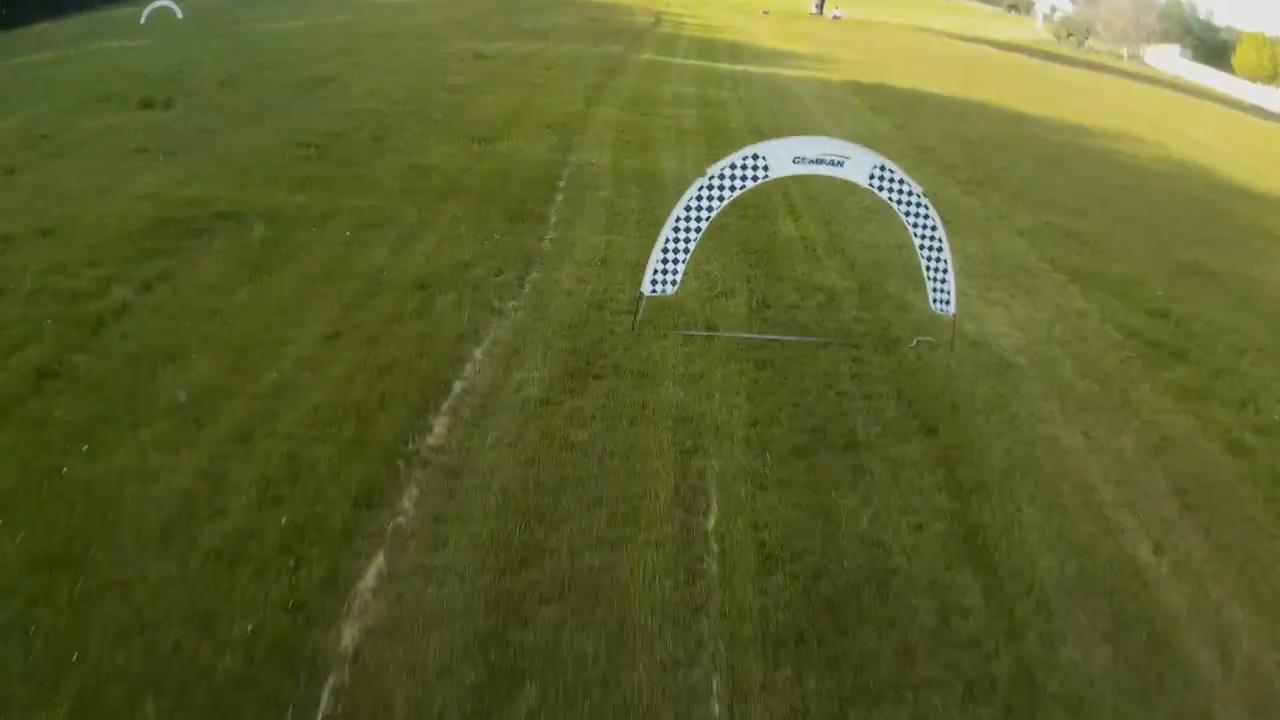gate: (640, 131, 959, 313), (138, 1, 182, 26)
